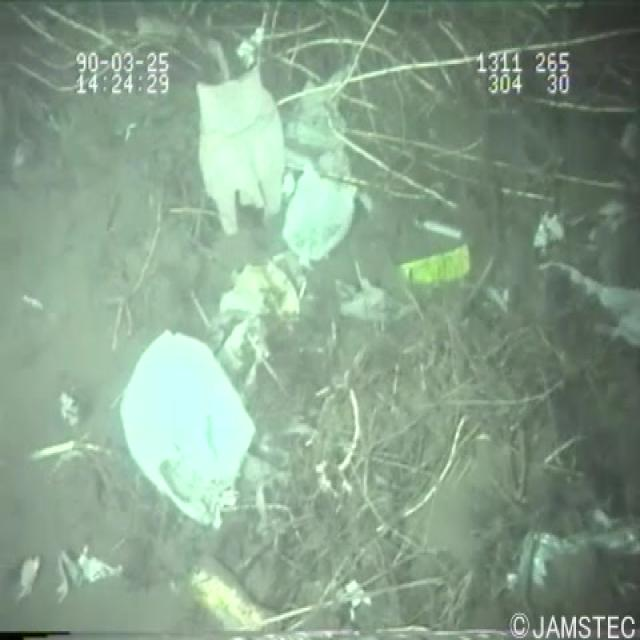plastic: (180, 59, 363, 293), (112, 322, 277, 551)
